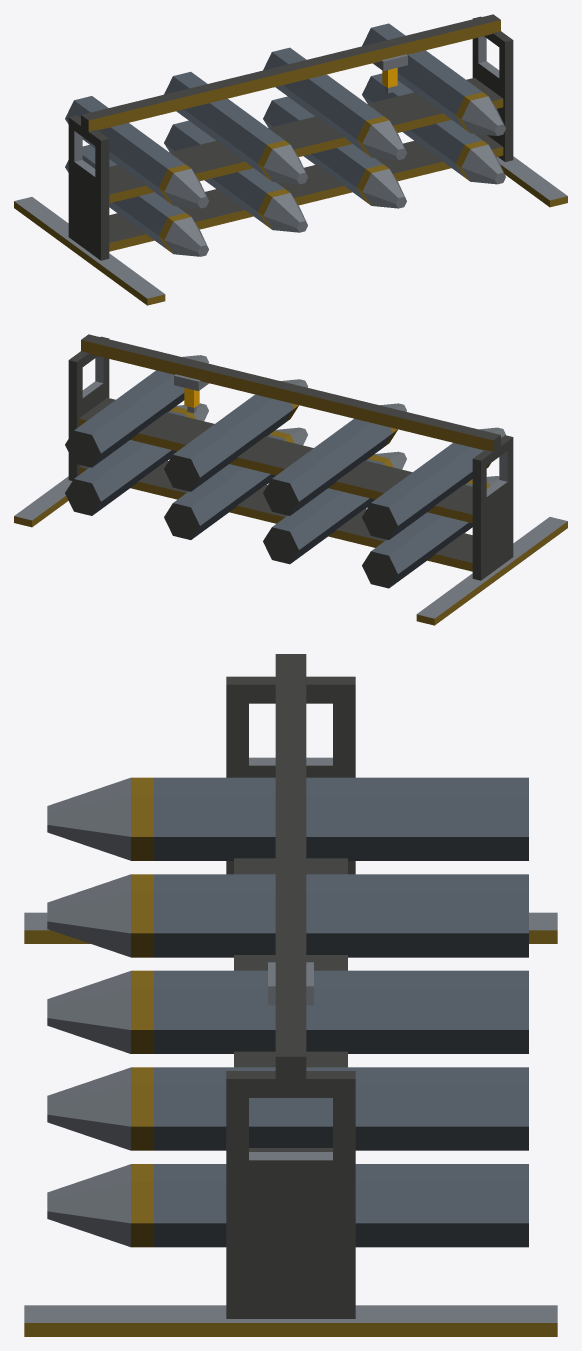
Rendered from magazine_rack.glb.
3 renders of one model, top to bottom at view 1: azimuth 30°, elevation 25°; view 2: azimuth 150°, elevation 25°; view 3: azimuth 270°, elevation 25°, orthographic. The views are drawn at different scales.
Parts seen in each view (by area): view 1: magazine_rack; view 2: magazine_rack; view 3: magazine_rack.
Part boxes in pixels (left/top/right/bottom): magazine_rack: left=14, top=14, right=567, bottom=305; magazine_rack: left=14, top=334, right=567, bottom=625; magazine_rack: left=24, top=654, right=557, bottom=1336.
Size of the model in its own units: 5.1 by 1.6 by 2.8.
